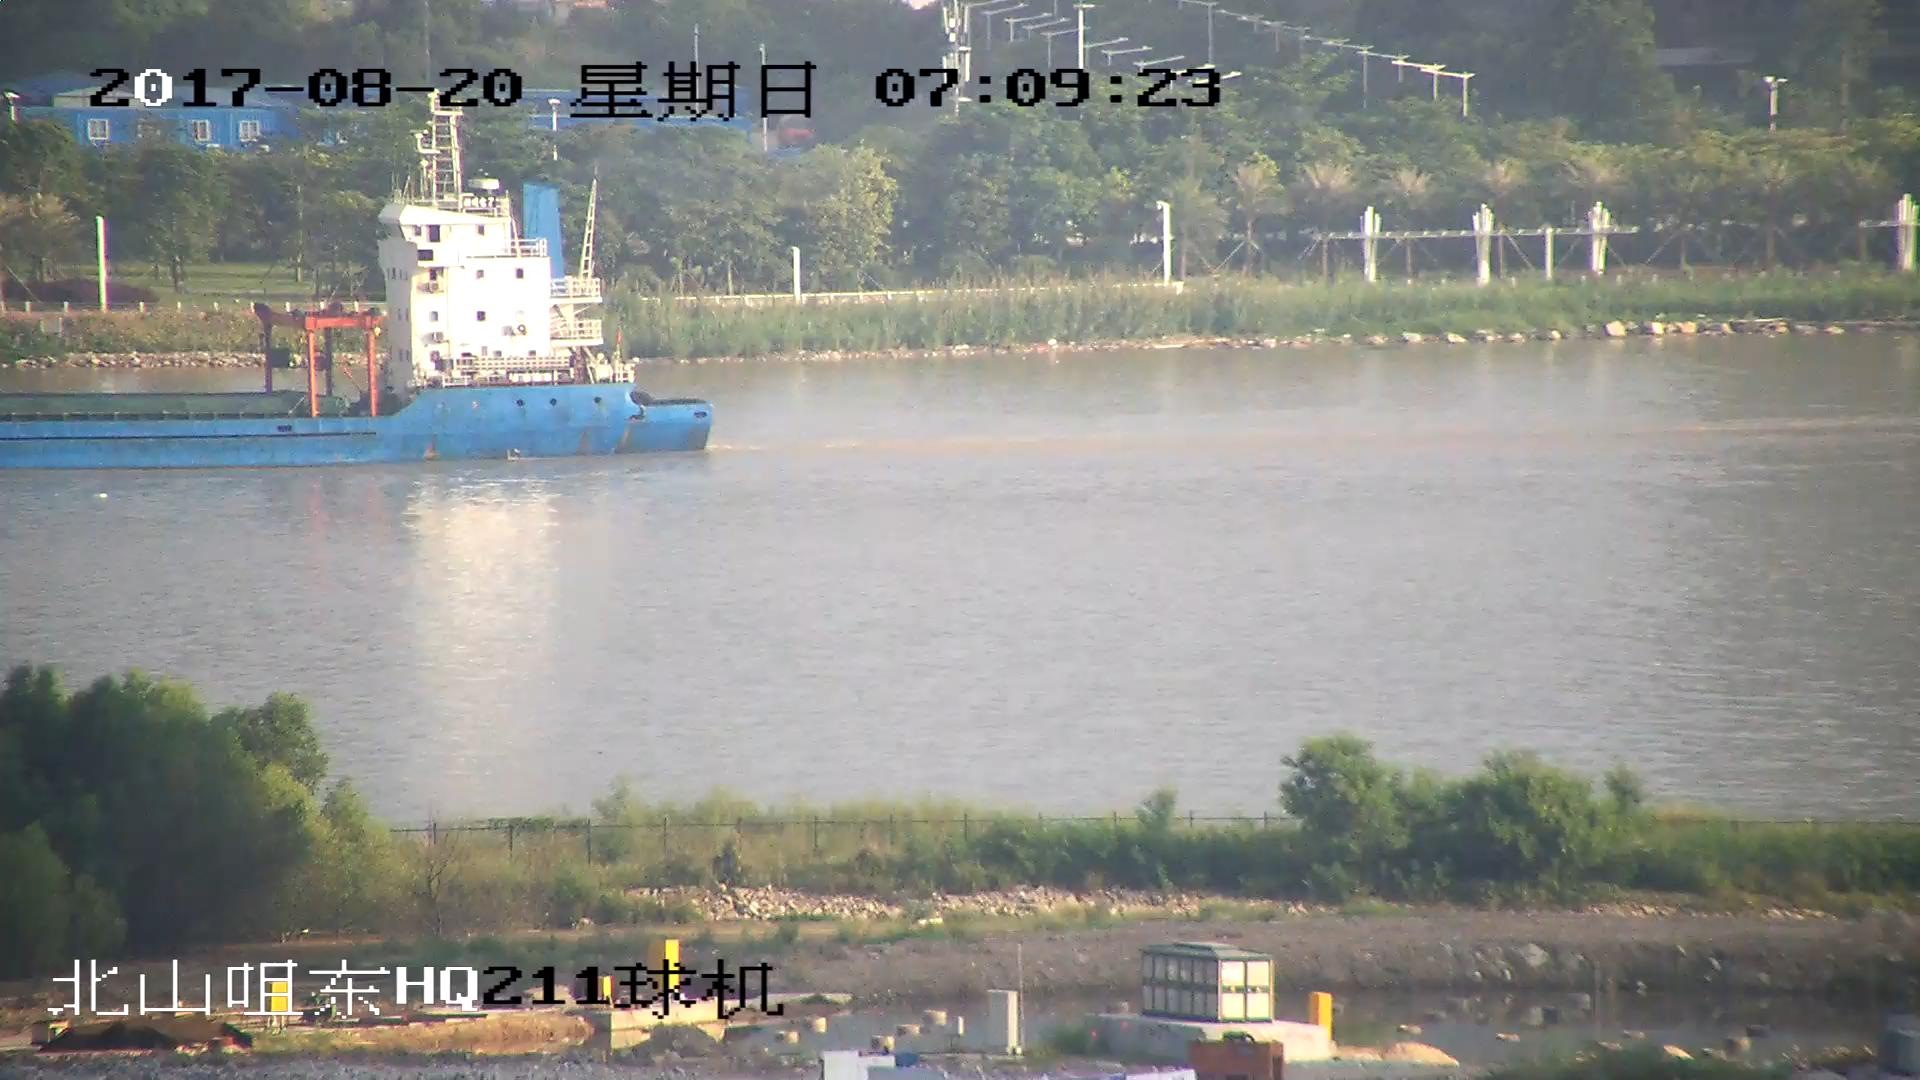general cargo ship: (1, 136, 713, 470)
